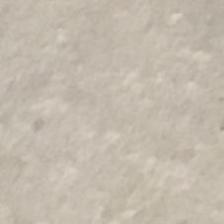Non_Crack: (28, 2, 224, 224)
